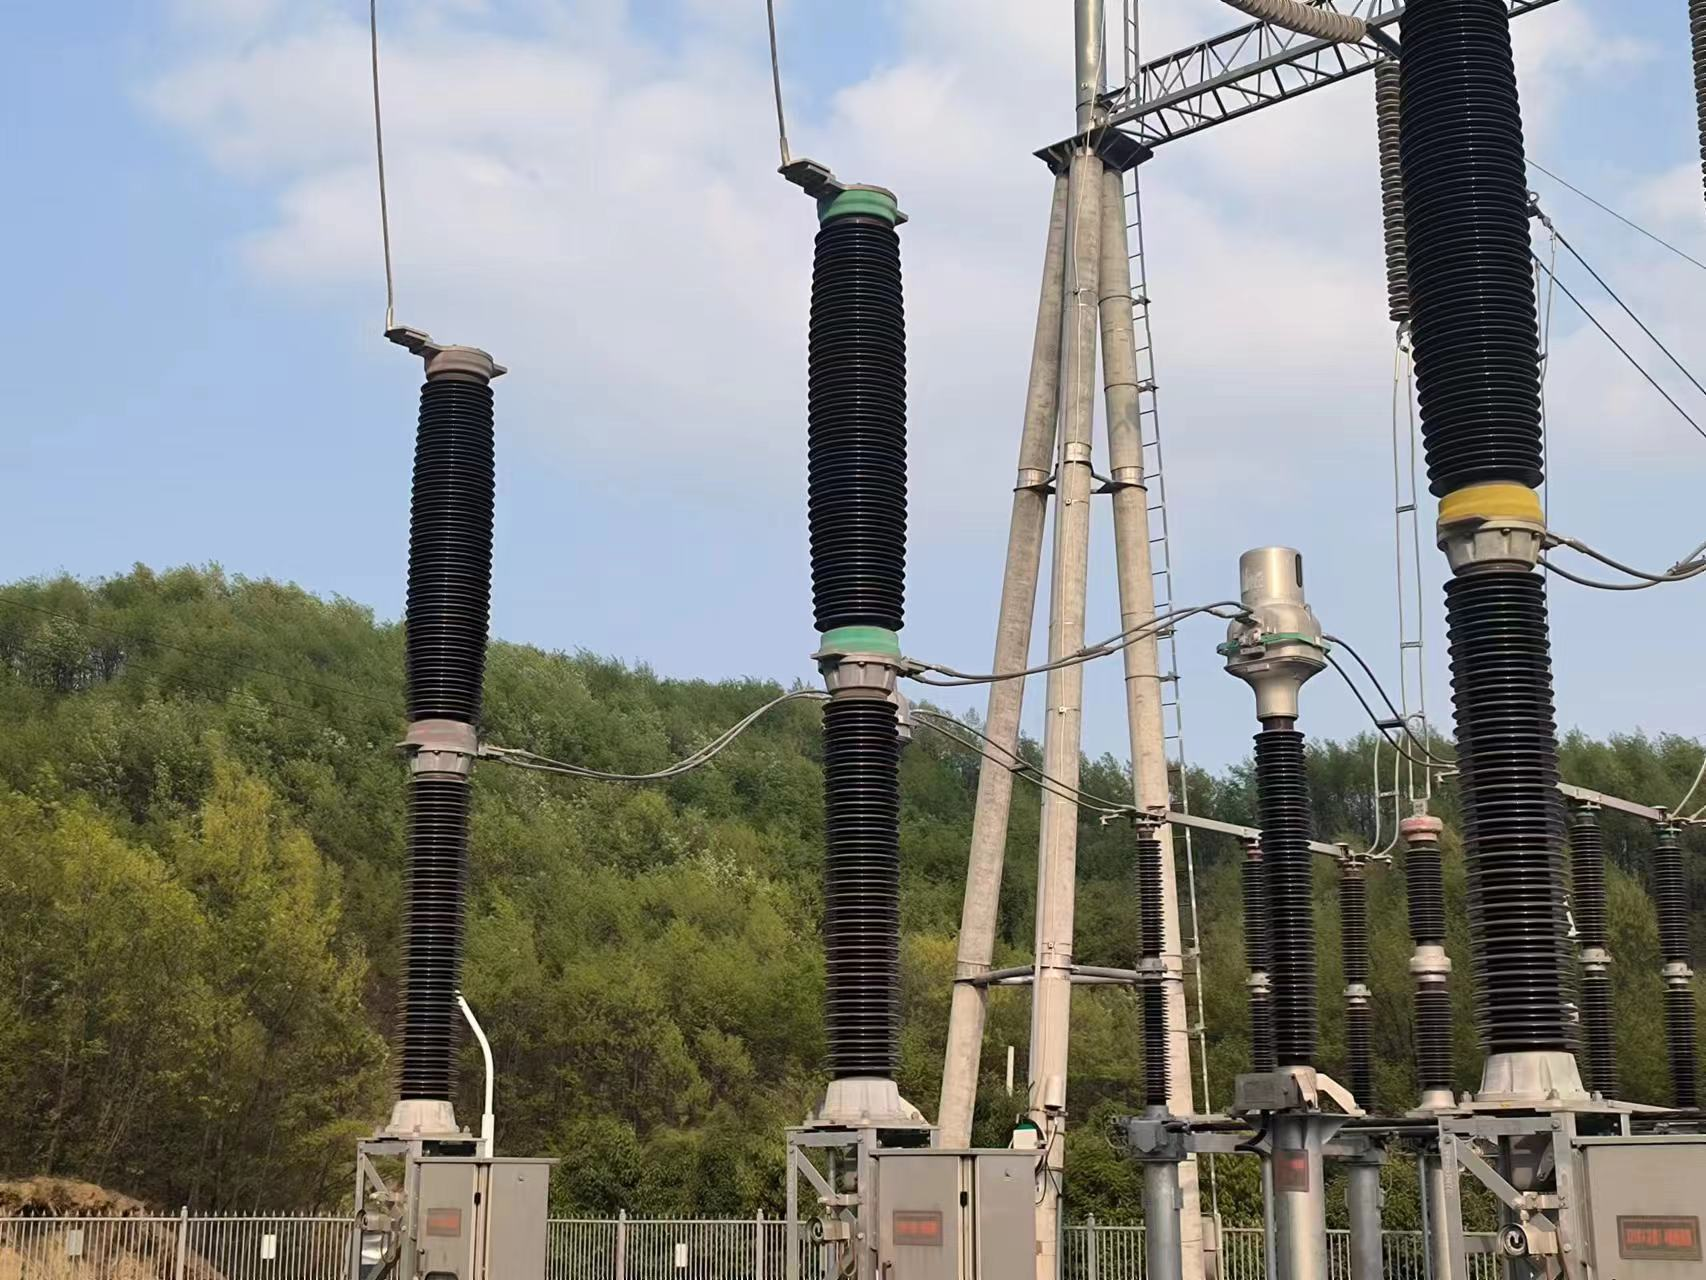Circuit-breaker: (757, 159, 941, 1125), (371, 321, 512, 1137)
